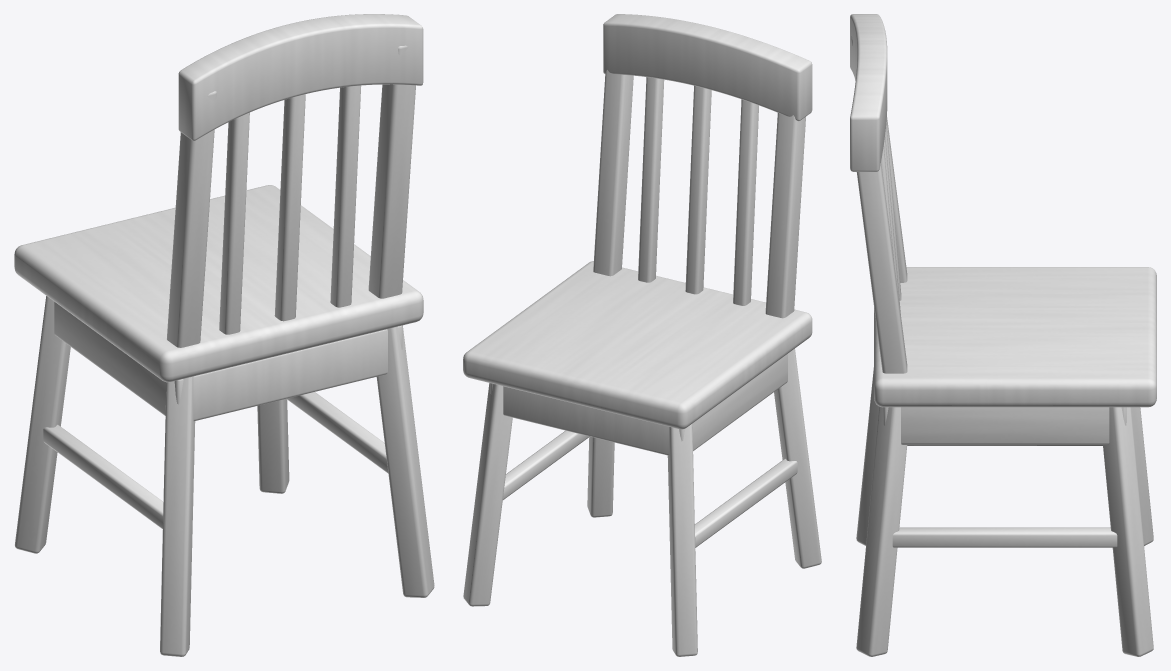
Rendered from dining-chair-classic.glb.
3 renders of one model, left to right at view 1: azimuth 30°, elevation 25°; view 2: azimuth 150°, elevation 25°; view 3: azimuth 270°, elevation 25°, orthographic. The views are drawn at different scales.
Visible parts, largest first — view 1: Gently rounded solid seat, Arched wooden top rail, Front and rear seat rail, Wooden leg, Wooden leg.002, Rear back post.001, Rear back post, Wooden leg.001, Back spindle.001, Back spindle.002, Back spindle, Side seat rail (+3 smaller); view 2: Gently rounded solid seat, Arched wooden top rail, Wooden leg.003, Wooden leg.001, Rear back post.001, Rear back post, Front and rear seat rail.001, Wooden leg, Back spindle.001, Back spindle.002, Back spindle, Side seat rail (+3 smaller); view 3: Gently rounded solid seat, Side seat rail.001, Wooden leg.003, Wooden leg.002, Arched wooden top rail, Rear back post.001, Side stretcher.001, Wooden leg, Wooden leg.001, Rear back post, Back spindle.
Part boxes in pixels (bbox=[...]): Gently rounded solid seat: bbox=[14, 185, 423, 382]; Arched wooden top rail: bbox=[178, 14, 423, 140]; Front and rear seat rail: bbox=[174, 325, 402, 421]; Wooden leg: bbox=[160, 376, 195, 656]; Wooden leg.002: bbox=[376, 325, 434, 597]; Rear back post.001: bbox=[368, 45, 415, 298]; Rear back post: bbox=[167, 91, 216, 347]; Wooden leg.001: bbox=[15, 296, 70, 553]; Back spindle.001: bbox=[274, 94, 305, 321]; Back spindle.002: bbox=[330, 85, 361, 307]; Back spindle: bbox=[219, 112, 249, 334]; Side seat rail: bbox=[54, 302, 166, 415]; Gently rounded solid seat: bbox=[463, 261, 812, 429]; Arched wooden top rail: bbox=[603, 14, 812, 121]; Wooden leg.003: bbox=[463, 383, 512, 606]; Wooden leg.001: bbox=[667, 424, 697, 656]; Rear back post.001: bbox=[593, 70, 633, 276]; Rear back post: bbox=[765, 113, 805, 318]; Front and rear seat rail.001: bbox=[490, 383, 684, 455]; Wooden leg: bbox=[774, 348, 821, 568]; Back spindle.001: bbox=[685, 85, 711, 294]; Back spindle.002: bbox=[638, 77, 664, 282]; Back spindle: bbox=[733, 99, 758, 305]; Side seat rail: bbox=[692, 354, 787, 450]; Gently rounded solid seat: bbox=[874, 267, 1156, 407]; Side seat rail.001: bbox=[901, 407, 1109, 444]; Wooden leg.003: bbox=[1103, 407, 1153, 656]; Wooden leg.002: bbox=[856, 406, 907, 656]; Arched wooden top rail: bbox=[850, 14, 887, 171]; Rear back post.001: bbox=[856, 161, 907, 373]; Side stretcher.001: bbox=[892, 527, 1117, 547]; Wooden leg: bbox=[856, 367, 879, 545]; Wooden leg.001: bbox=[1131, 407, 1153, 545]; Rear back post: bbox=[851, 36, 907, 282]; Back spindle: bbox=[885, 123, 901, 300].
Bounding box in the file's own units: 0.4474 × 0.9305 × 0.4719.
Materials: 1 (1 with a texture image).
